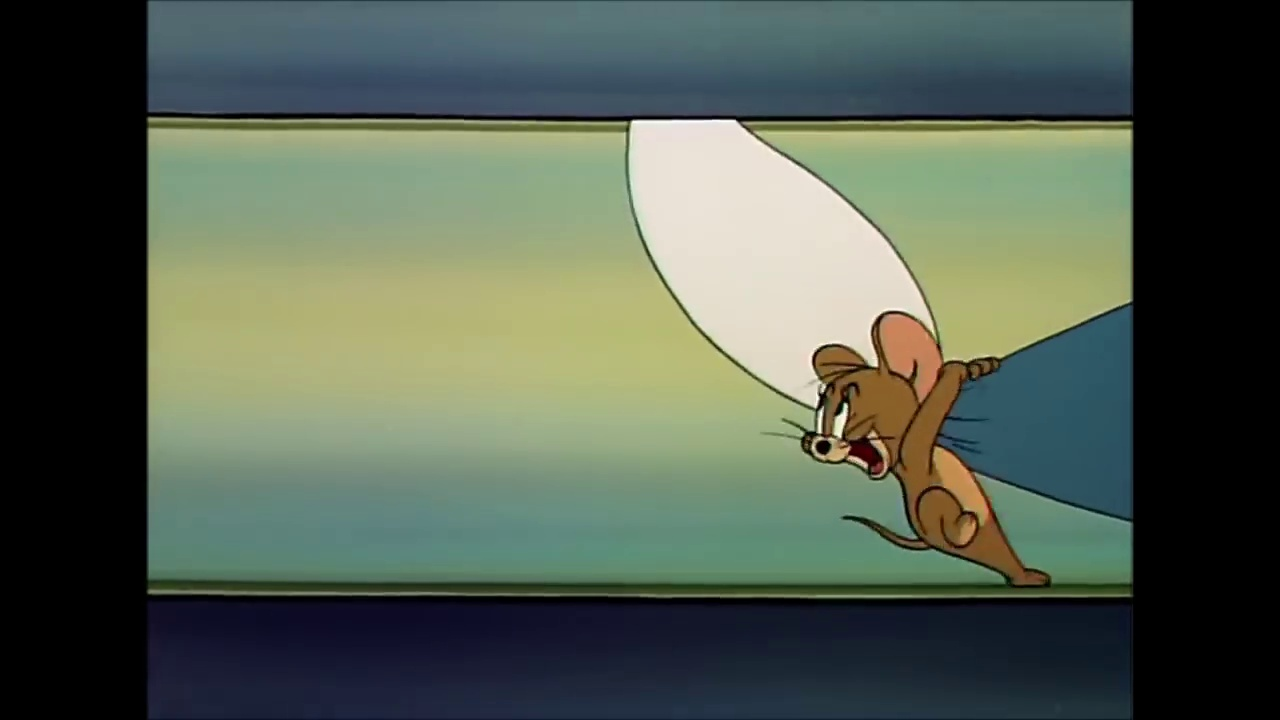happy: (811, 381, 891, 487)
